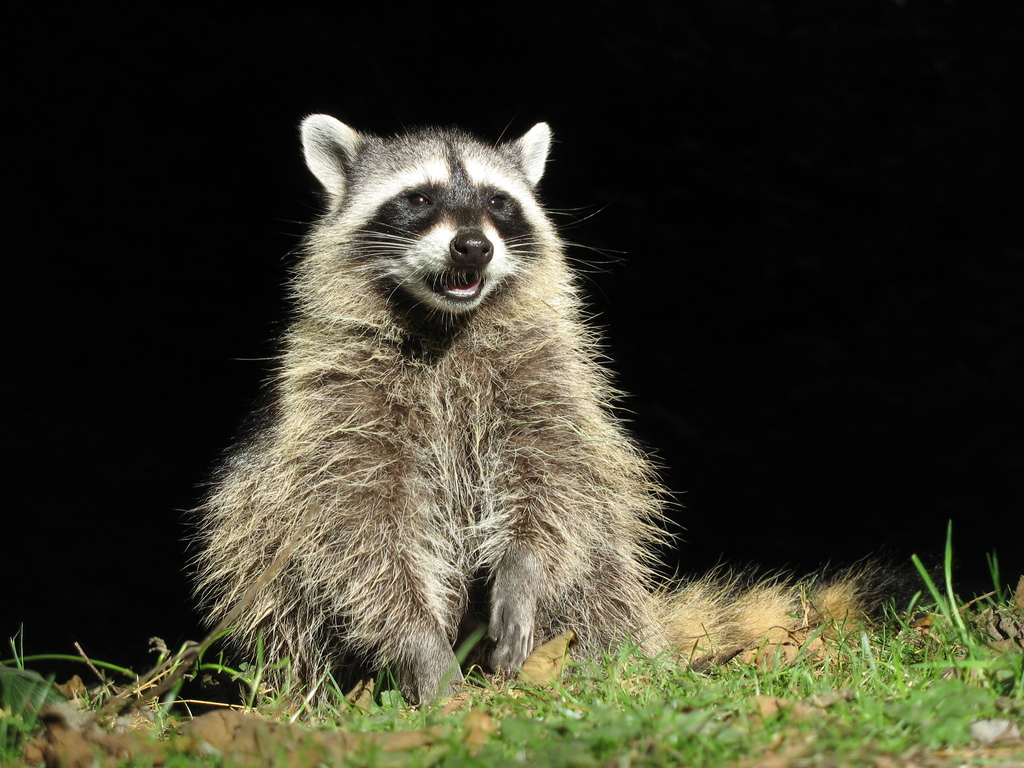raccoon: (189, 112, 928, 682)
